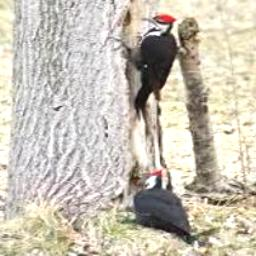Woodpecker: (109, 14, 178, 122), (115, 169, 190, 238)
